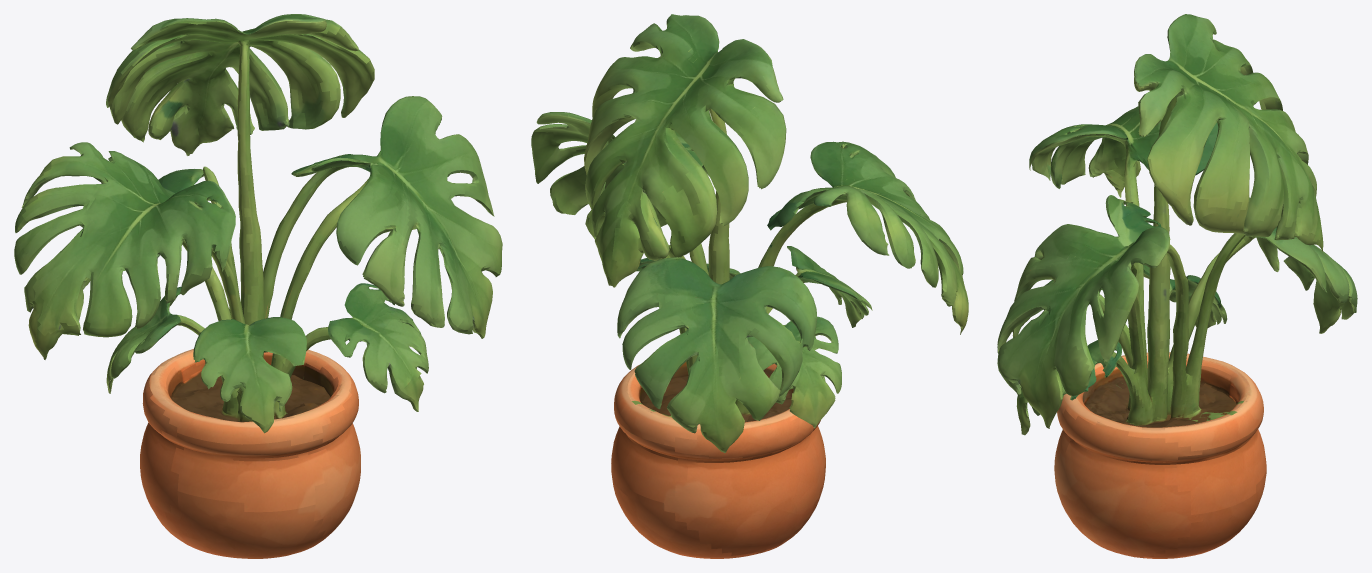
File: Meshy_AI_Potted_Monstera_Colle_1122061243_texture.glb
3 renders of one model, left to right at view 1: azimuth 30°, elevation 25°; view 2: azimuth 150°, elevation 25°; view 3: azimuth 270°, elevation 25°, orthographic. The views are drawn at different scales.
Parts seen in each view (by area): view 1: Mesh0; view 2: Mesh0; view 3: Mesh0.
Part boxes in pixels (x1,y1,x2,y2): Mesh0: (14,14,502,558); Mesh0: (531,14,968,558); Mesh0: (997,14,1357,558).
Size of the model in its own units: 1.74 by 1.9 by 1.27.
Materials: 1 (1 with a texture image).
